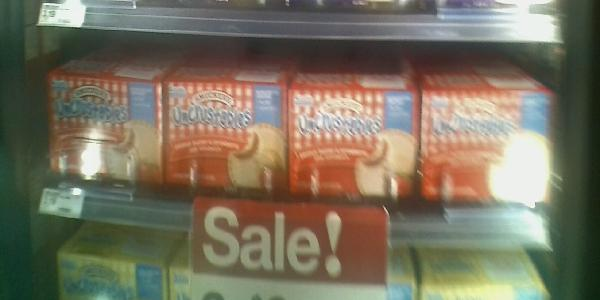icecream: (162, 67, 292, 217), (289, 64, 421, 210), (421, 76, 555, 215), (46, 71, 167, 193)
